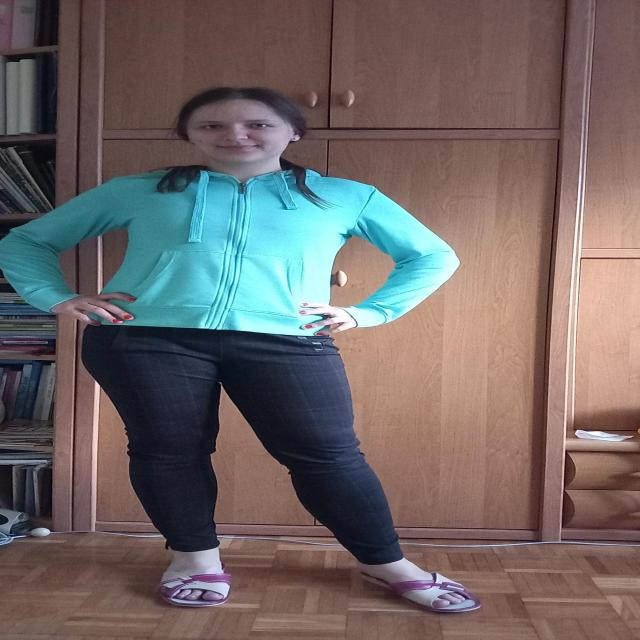pants: (80, 324, 406, 565)
sweater: (0, 167, 460, 335)
